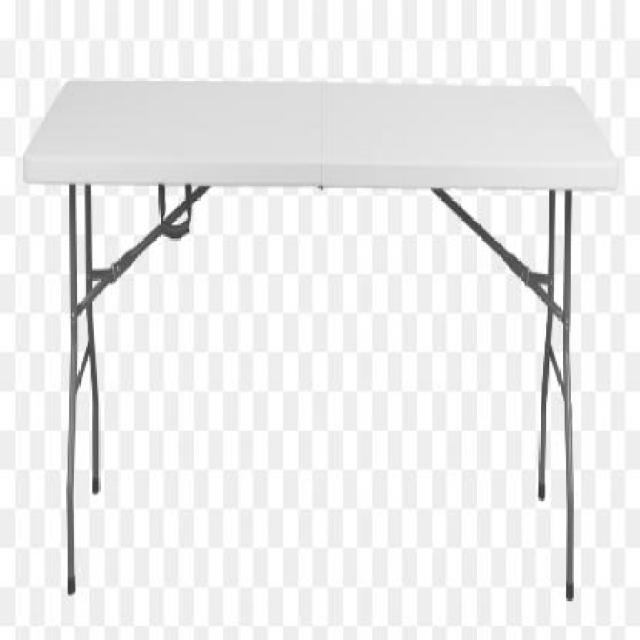table: (21, 71, 616, 597)
